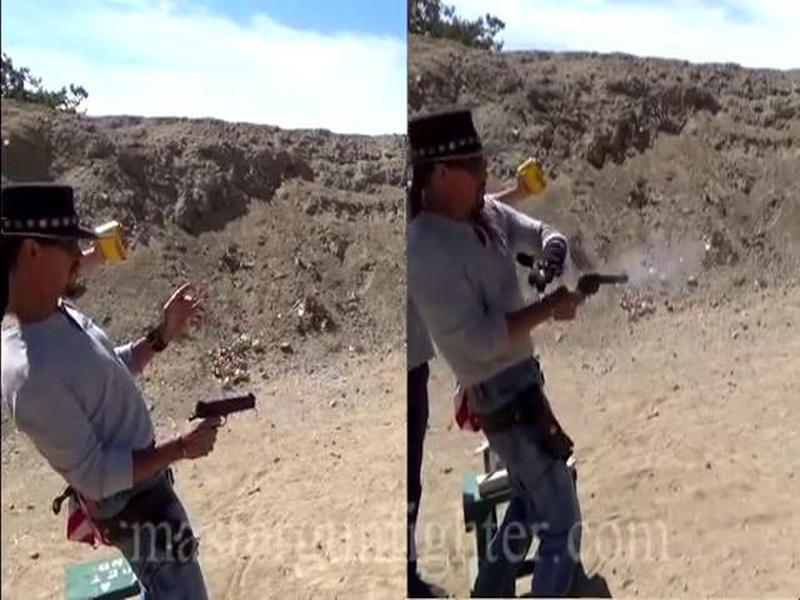Pistola: (176, 390, 263, 454)
Revolver: (567, 267, 639, 323)
